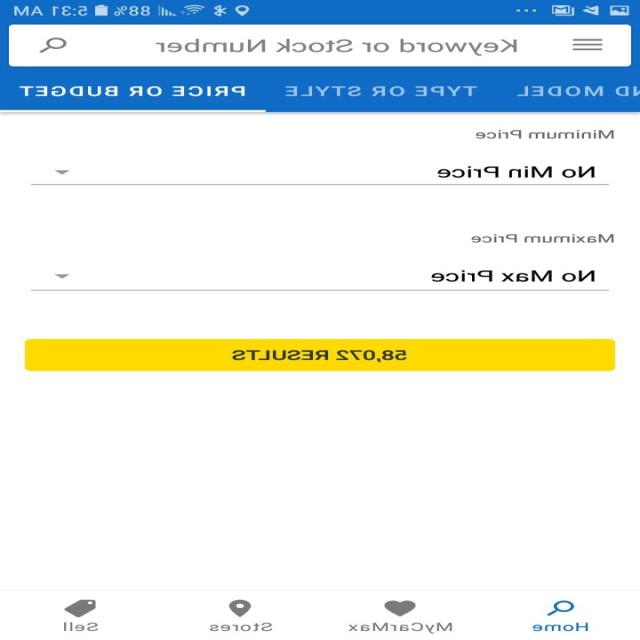EditText: (9, 24, 631, 67), (31, 164, 610, 186), (31, 270, 610, 291)
Icon: (65, 598, 98, 617), (384, 600, 417, 616), (546, 600, 576, 616), (40, 38, 68, 53), (572, 38, 604, 51), (230, 599, 252, 617), (54, 170, 71, 174), (55, 274, 71, 278)
Text: (155, 38, 518, 56), (19, 85, 246, 96), (286, 85, 478, 97), (438, 165, 596, 178), (431, 270, 596, 282), (471, 233, 614, 243), (476, 129, 616, 139), (348, 621, 454, 634), (516, 85, 640, 96), (210, 621, 273, 631), (532, 621, 590, 631), (64, 622, 100, 632)
TextButton: (26, 338, 616, 371)
